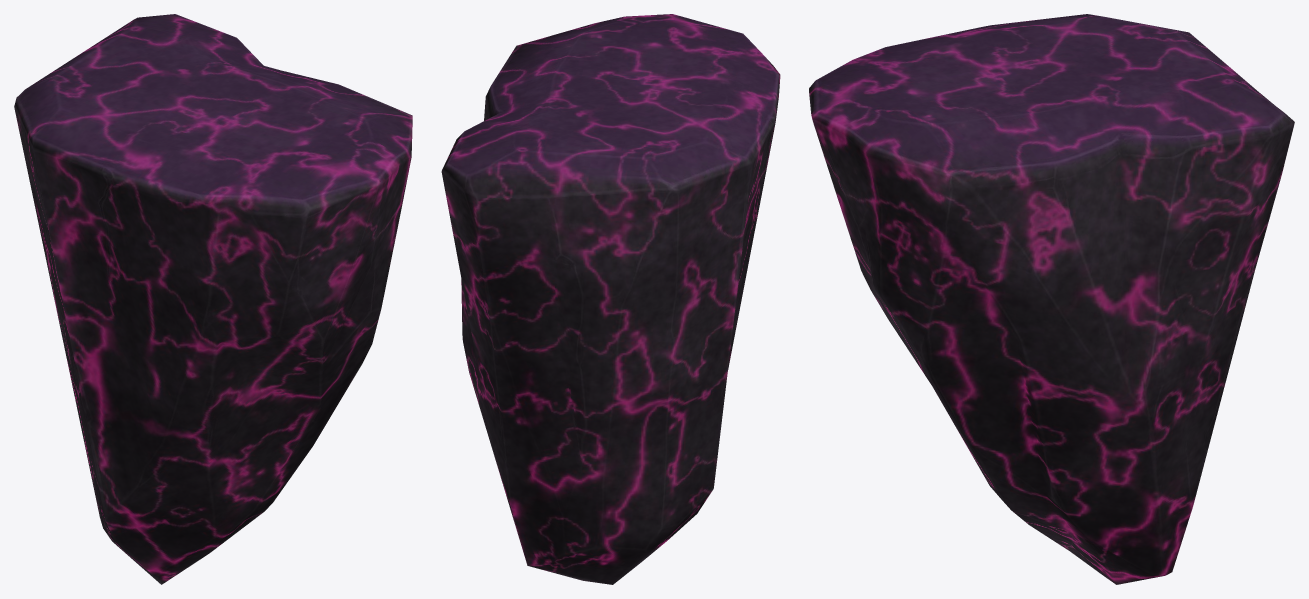
The model's file is caos_stl_cliffrock_01b_chaos_v36.glb.
The picture shows the model from 3 angles, left to right: view 1: azimuth 30°, elevation 25°; view 2: azimuth 150°, elevation 25°; view 3: azimuth 270°, elevation 25°; orthographic projection. The views are drawn at different scales.
Visible parts, largest first — view 1: caos_stl_cliffrock_01b; view 2: caos_stl_cliffrock_01b; view 3: caos_stl_cliffrock_01b.
Part boxes in pixels (x1,y1,x2,y2): caos_stl_cliffrock_01b: (14,14,412,584); caos_stl_cliffrock_01b: (441,14,780,584); caos_stl_cliffrock_01b: (809,14,1294,584).
Size of the model in its own units: 7.13 by 10.84 by 9.32.
1 material, 1 textured.
